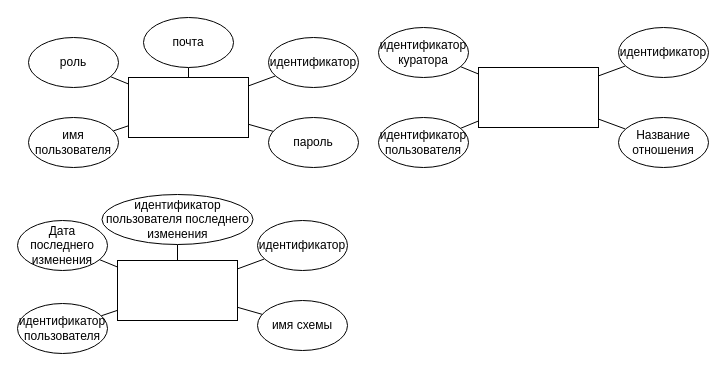
Some shapes in this 726 by 371 pixel diagram are drawn without their labels. Each missing label, with the box of its shape:
ДРАКОН-схема: (116, 260, 238, 320)
Курируемое отношение: (478, 66, 598, 128)
Пользователь: (128, 76, 248, 138)
